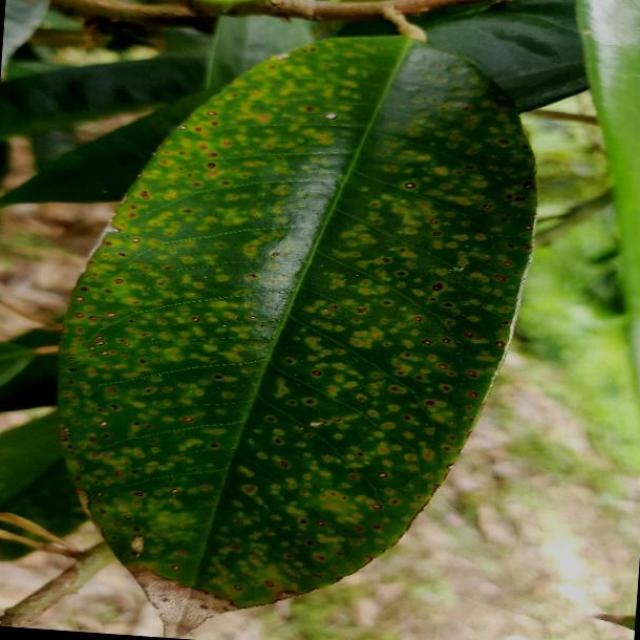Leaf Spot: (32, 3, 550, 640)
